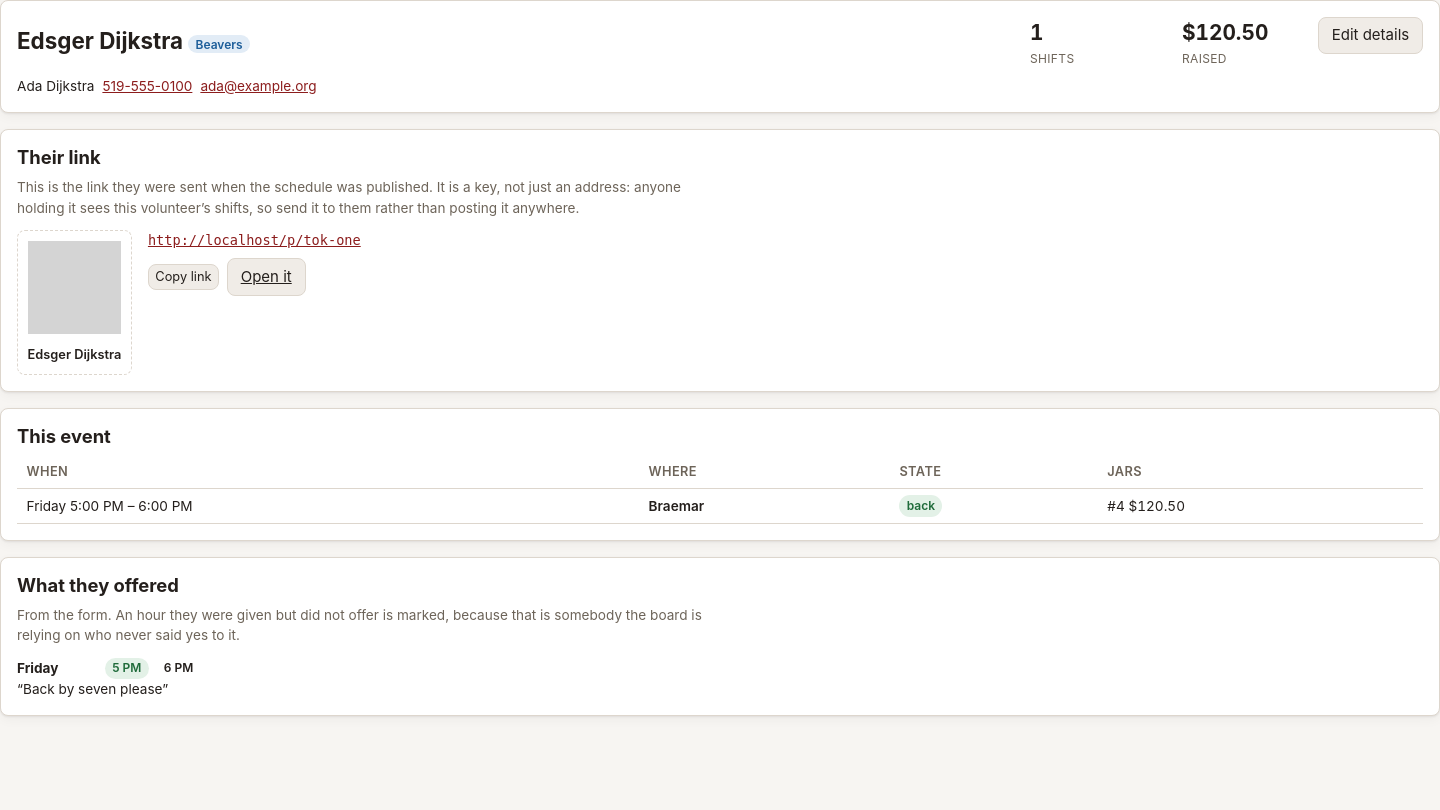
Test case: correcting their details › opens the same editor the roster uses
Click the button "Edit details".
click(1370, 36)  # box [1318,17,1423,54]
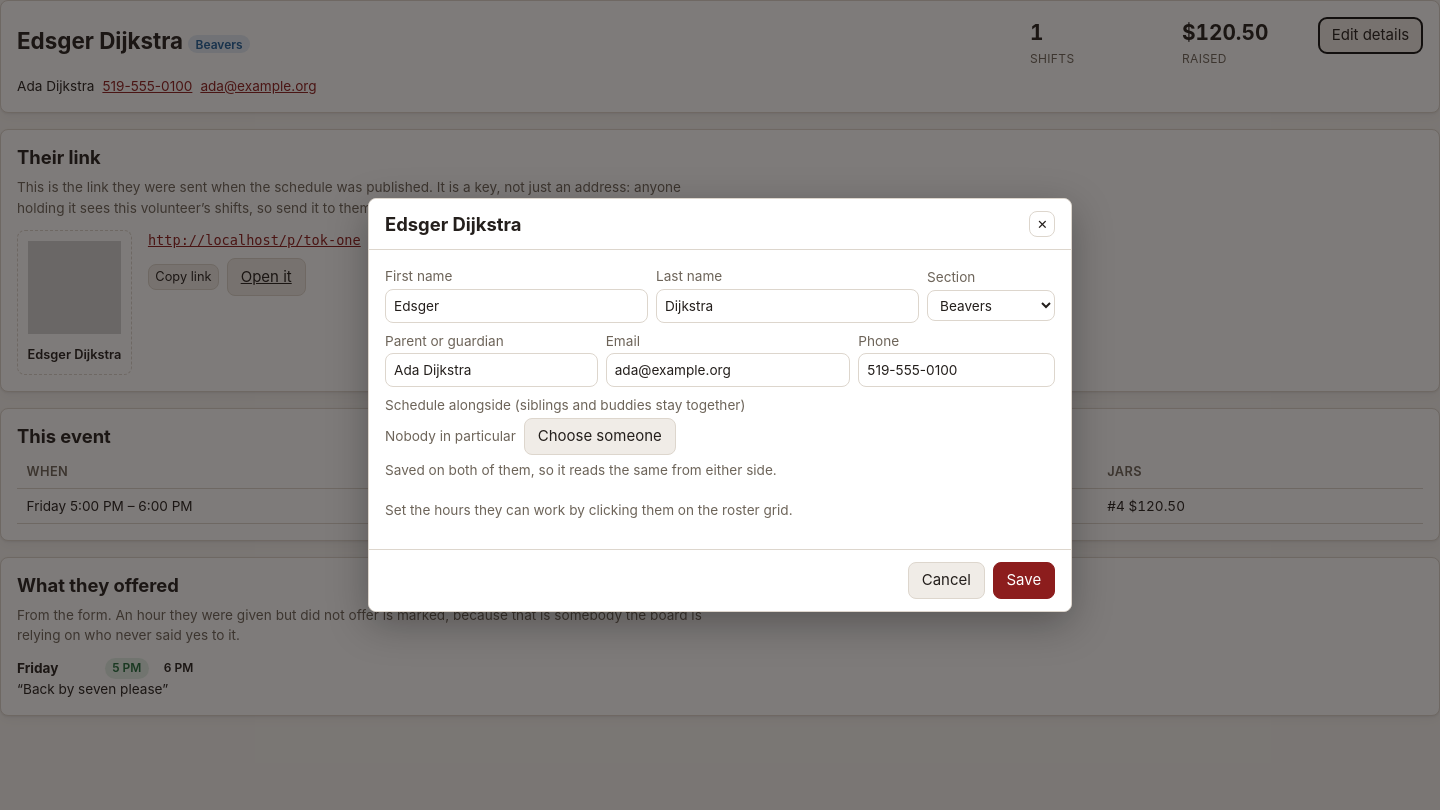
expect the field labelled "First name" holds "Edsger": met, box [385,289,648,322]
expect the field labelled "Phone" holds "519-555-0100": met, box [858,353,1055,387]
expect the dropdown labelled "Section" is shown: met, box [927,290,1055,321]
